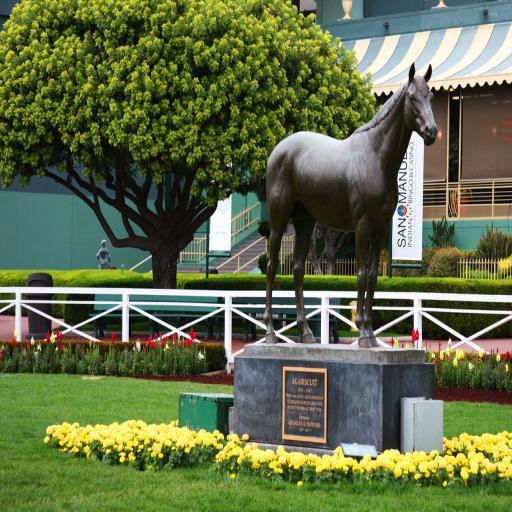horse: (261, 64, 438, 348)
